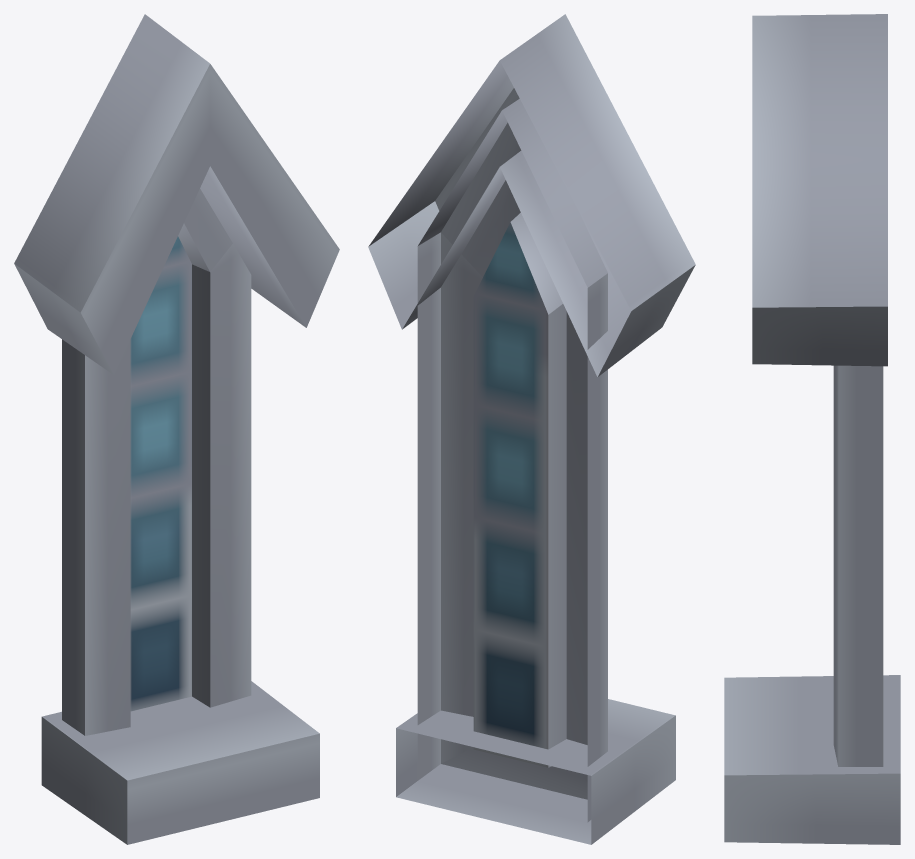
Rendered from window_curch_v1_001.fbx.
3 renders of one model, left to right at view 1: azimuth 30°, elevation 25°; view 2: azimuth 150°, elevation 25°; view 3: azimuth 270°, elevation 25°, orthographic. The views are drawn at different scales.
Parts seen in each view (by area): view 1: window_curch_v1_001; view 2: window_curch_v1_001; view 3: window_curch_v1_001.
Part boxes in pixels (left/top/right/bottom): window_curch_v1_001: left=14, top=14, right=339, bottom=844; window_curch_v1_001: left=368, top=14, right=695, bottom=844; window_curch_v1_001: left=724, top=14, right=900, bottom=844.
Bounding box in the file's own units: 67.6 × 186 × 37.93.
